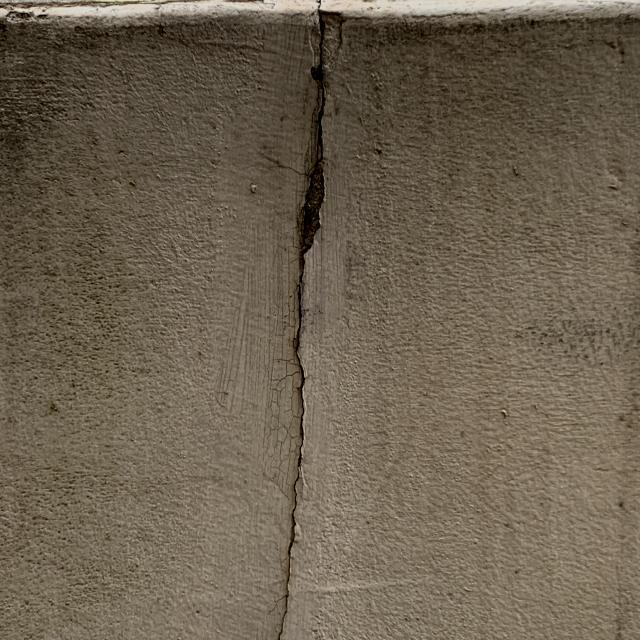SurfaceCrack: (230, 5, 379, 640)
